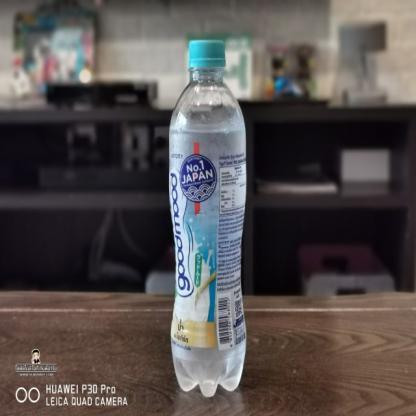bottle: (165, 38, 253, 400)
